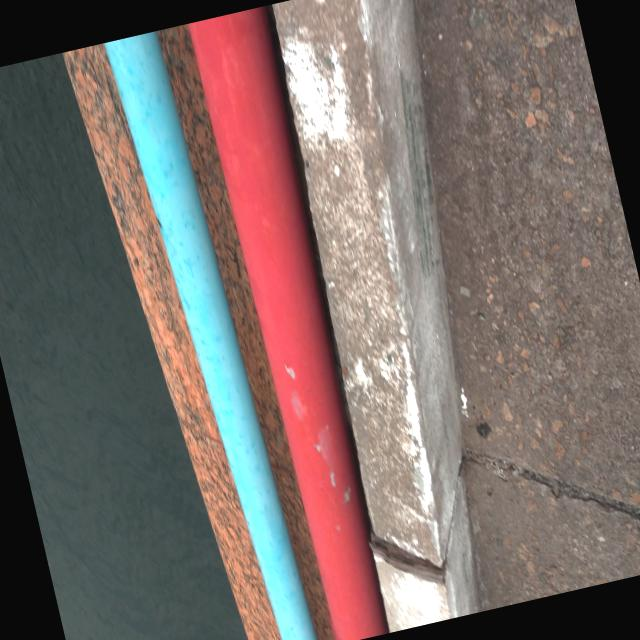gas: (100, 24, 325, 640), (190, 6, 402, 640)
